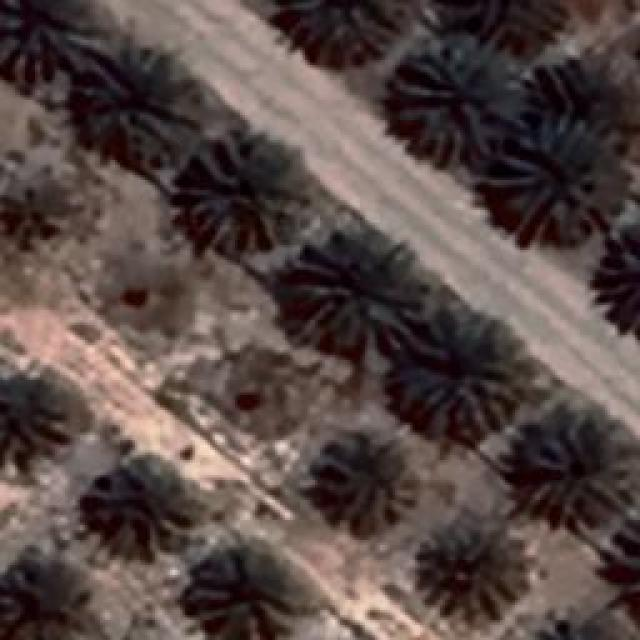PalmTree: (57, 77, 616, 580), (288, 232, 422, 350), (490, 115, 612, 243), (395, 318, 515, 432), (408, 38, 510, 166), (518, 414, 632, 528), (180, 134, 290, 248), (414, 512, 528, 622), (80, 48, 190, 150), (94, 450, 198, 555), (315, 428, 420, 530), (188, 547, 298, 635), (0, 0, 102, 85), (550, 52, 640, 136), (280, 0, 405, 60), (0, 374, 78, 468), (0, 550, 80, 640), (591, 219, 640, 339), (456, 0, 546, 45), (516, 615, 624, 640), (517, 623, 623, 640)
